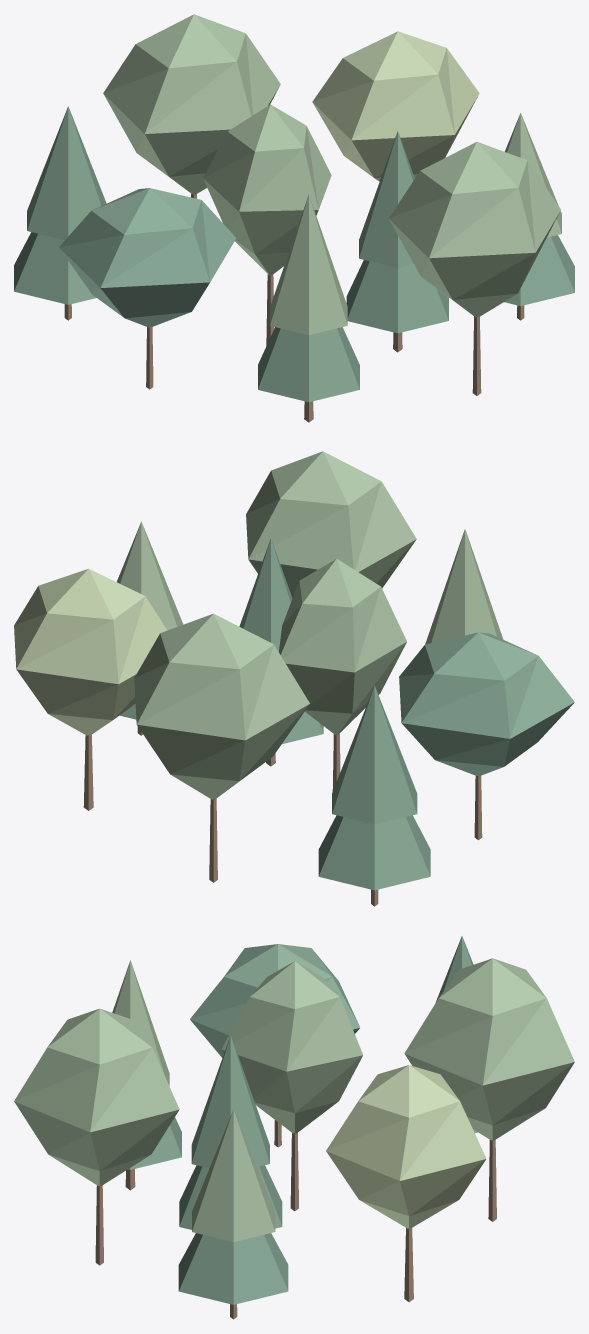
File: forest-grove-oak-pine.glb
3 renders of one model, top to bottom at view 1: azimuth 30°, elevation 25°; view 2: azimuth 150°, elevation 25°; view 3: azimuth 270°, elevation 25°, orthographic. The views are drawn at different scales.
Visible parts, largest first — view 1: forest-grove-oak-pine; view 2: forest-grove-oak-pine; view 3: forest-grove-oak-pine.
Part boxes in pixels (x1,y1,x2,y2): forest-grove-oak-pine: [14, 14, 574, 422]; forest-grove-oak-pine: [14, 451, 574, 906]; forest-grove-oak-pine: [14, 936, 574, 1319].
Size of the model in its own units: 21.85 by 11.4 by 22.14.
